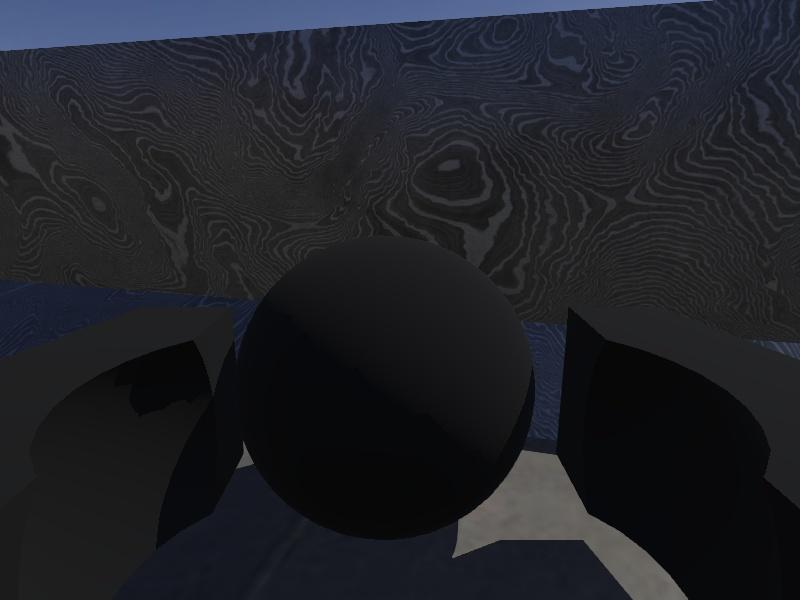black ball: (233, 235, 536, 539)
